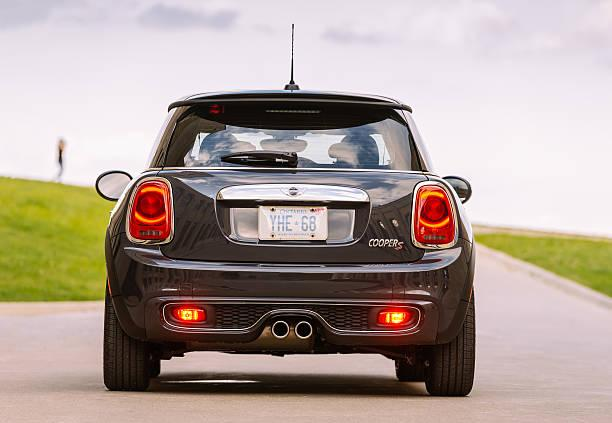mini: (278, 179, 318, 206)
